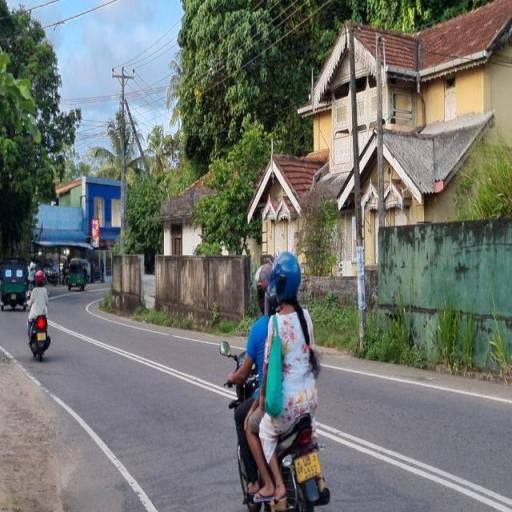double_white_line: (313, 412, 511, 510)
